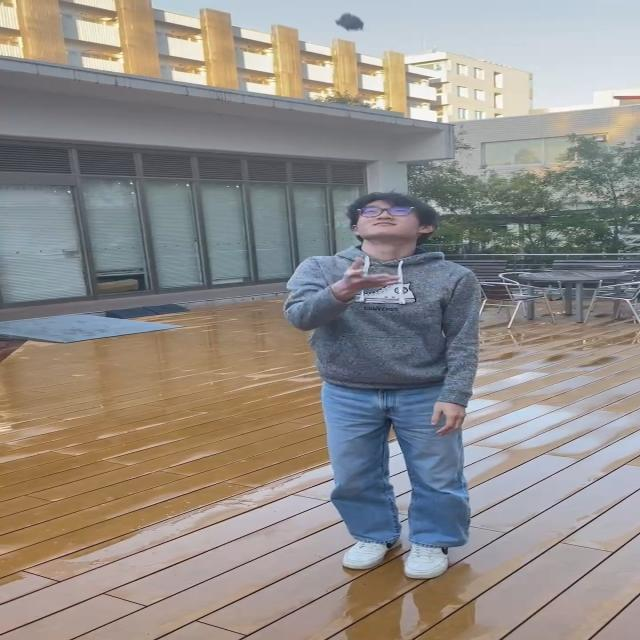paper: (337, 13, 368, 34)
